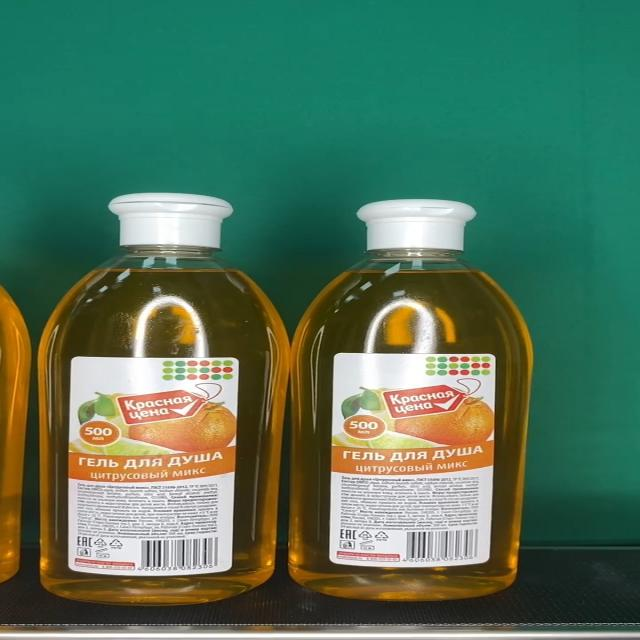Bottle: (39, 190, 292, 606), (288, 199, 532, 600)
Cap: (109, 190, 233, 247), (356, 199, 479, 251)
